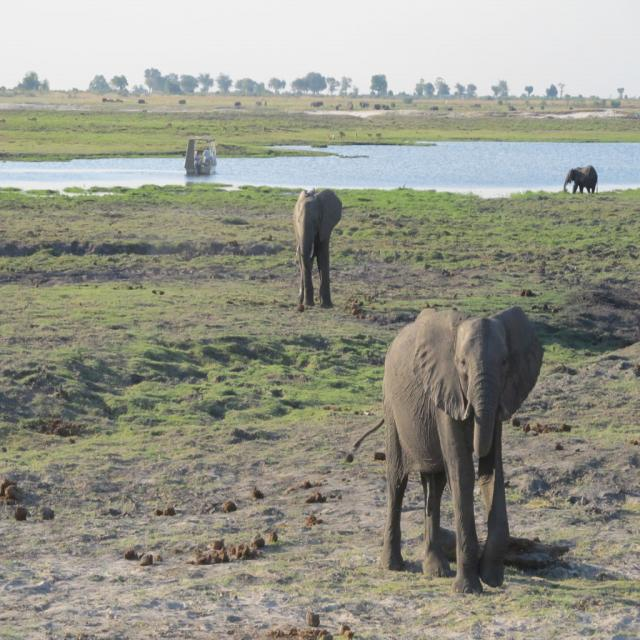Elephant: (362, 310, 536, 598), (290, 190, 340, 317), (564, 158, 601, 199)
